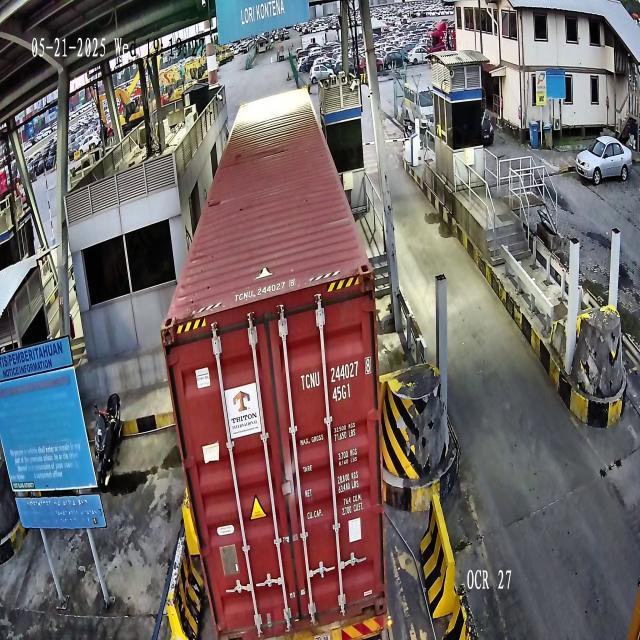ISO: (332, 382, 350, 404)
container_number: (299, 355, 372, 392)
